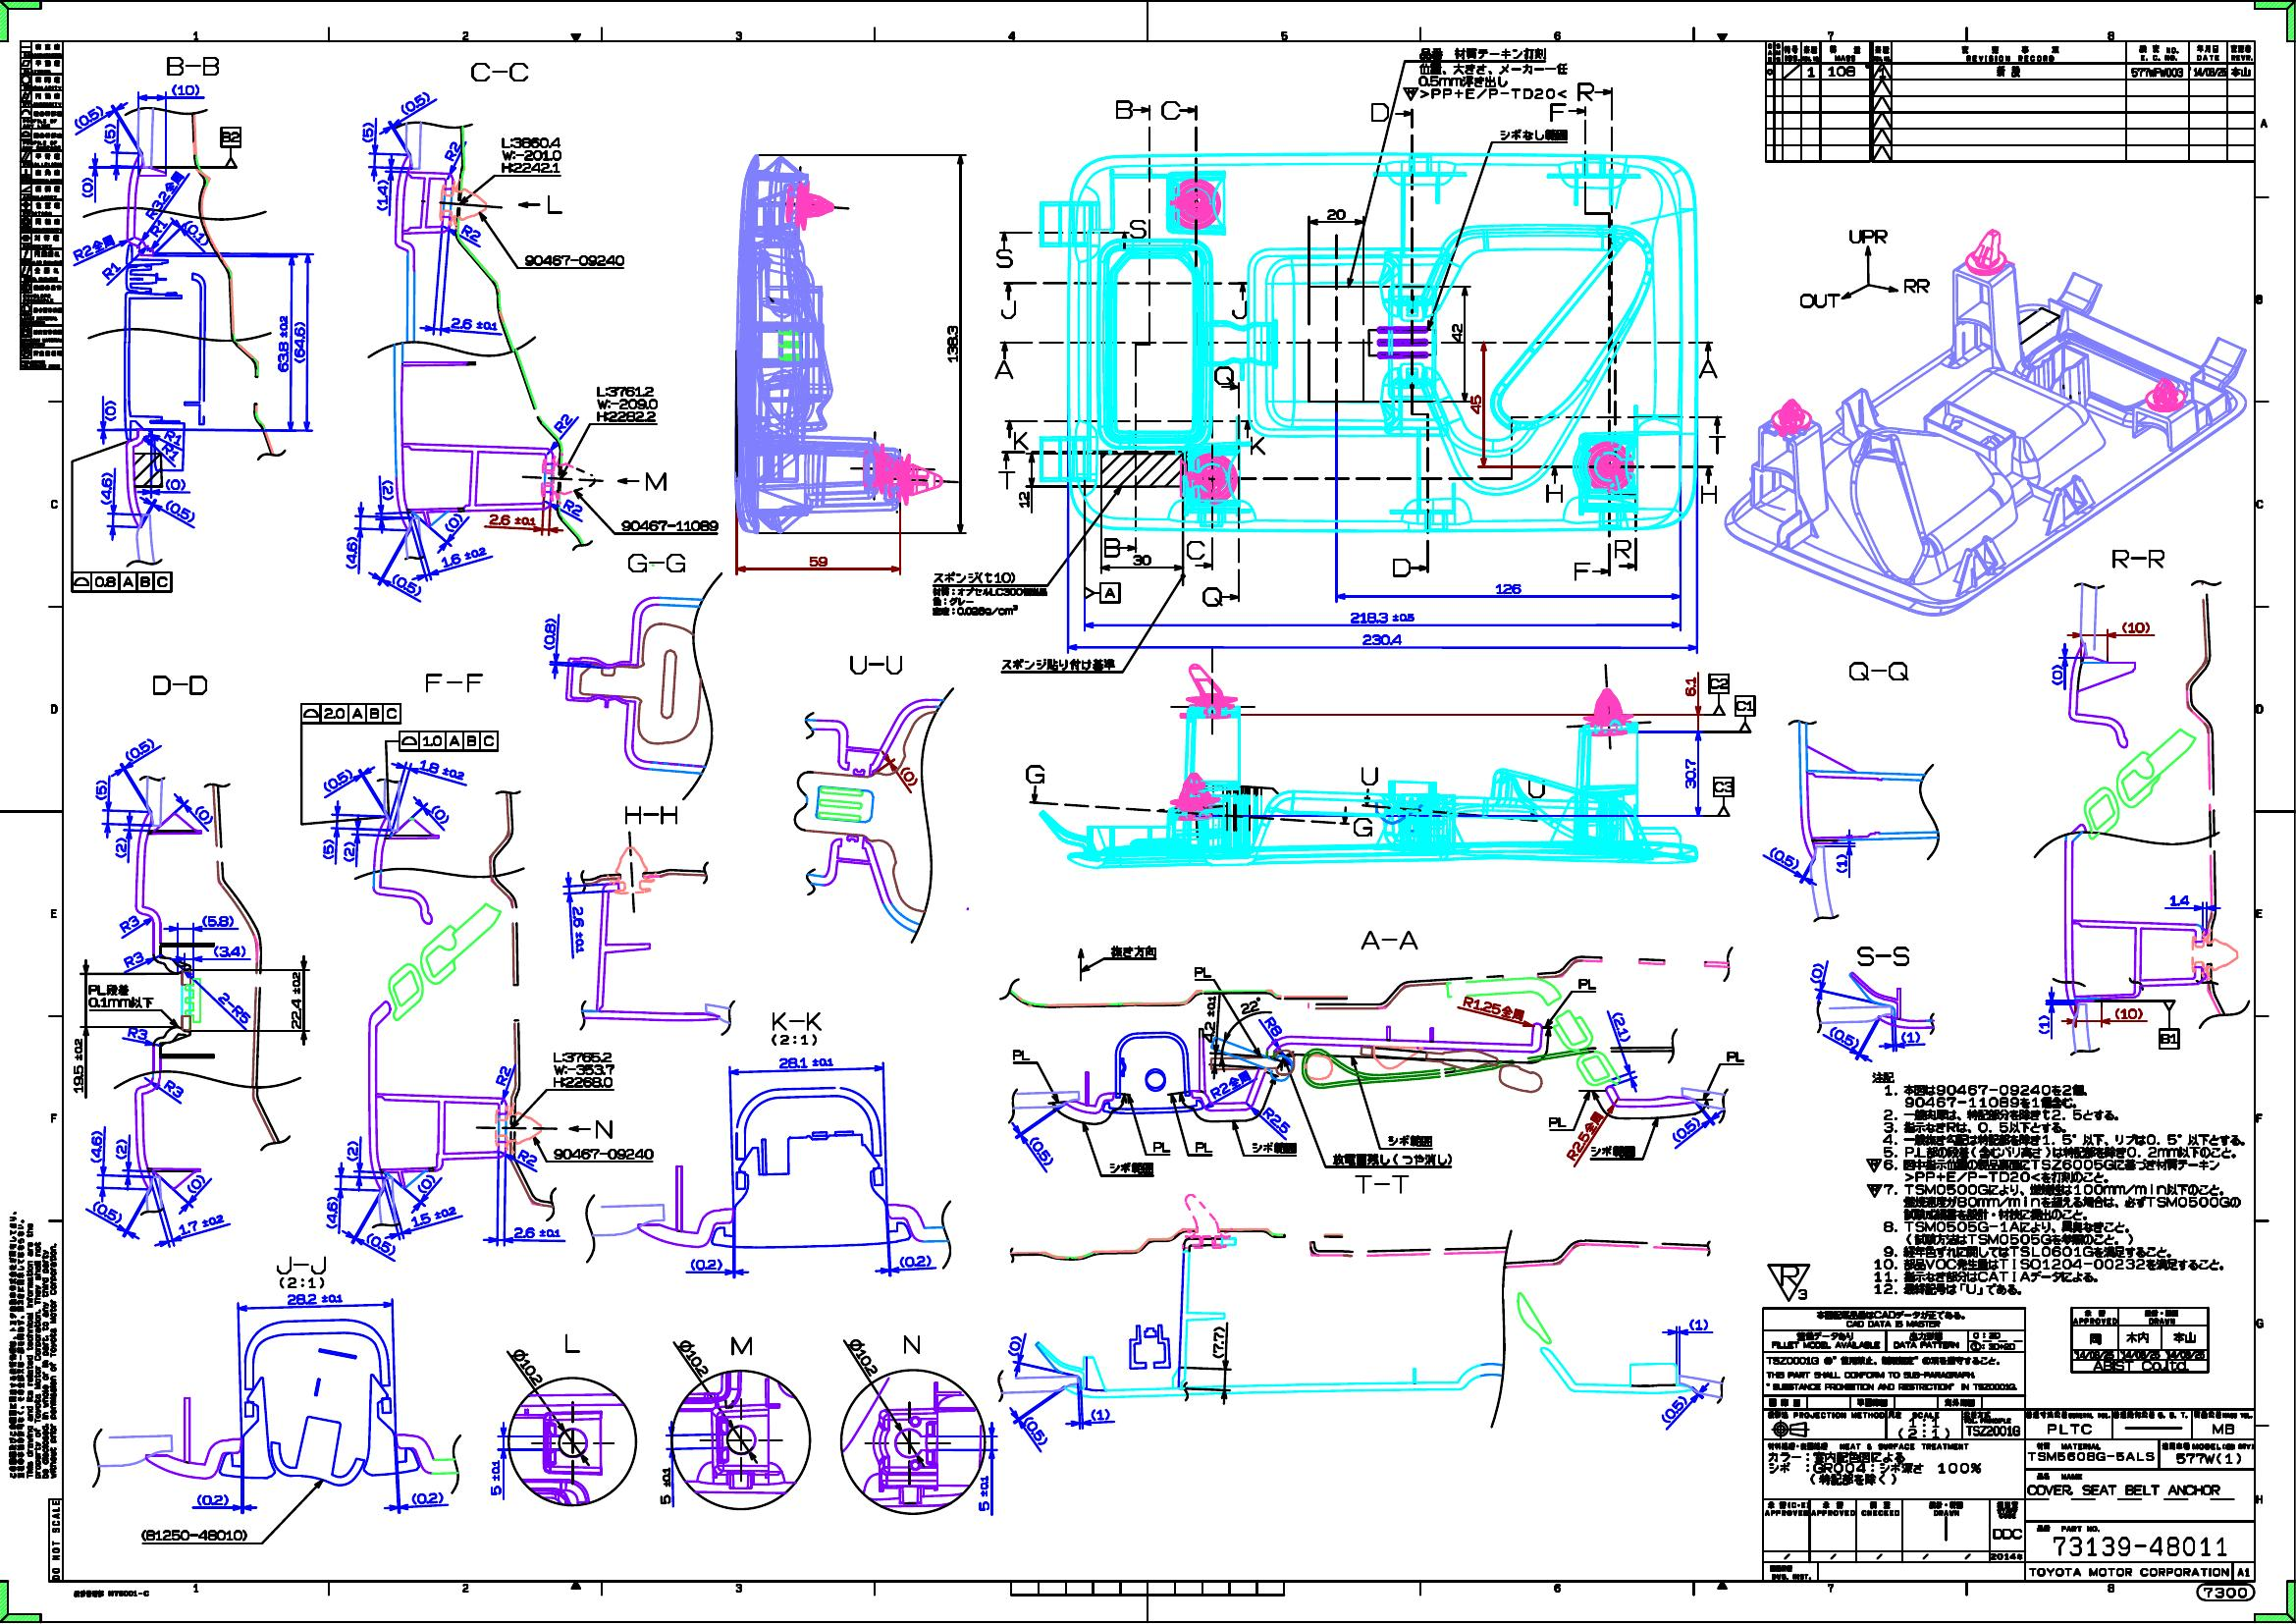anntotation_text: (1866, 1070, 2245, 1295), (5, 1209, 60, 1480), (1402, 47, 1567, 98), (931, 571, 1047, 615), (300, 703, 401, 724), (72, 571, 172, 592), (399, 731, 499, 750), (274, 1255, 327, 1290), (769, 1011, 822, 1046), (1765, 1262, 1809, 1302), (1332, 1153, 1451, 1165), (1001, 659, 1116, 671), (139, 1529, 246, 1541), (553, 1148, 653, 1160), (151, 675, 207, 696), (423, 673, 483, 692), (1848, 661, 1908, 680), (848, 654, 903, 675), (1353, 1174, 1411, 1193), (1360, 930, 1418, 949), (627, 554, 685, 573), (471, 62, 529, 81), (1857, 946, 1910, 967), (2194, 1584, 2256, 1601), (523, 255, 624, 265), (624, 805, 678, 824), (165, 56, 220, 76), (620, 520, 718, 531), (2112, 548, 2164, 568), (1498, 128, 1567, 141), (1462, 1002, 1525, 1014), (70, 1589, 149, 1598), (137, 188, 191, 200), (1799, 292, 1841, 308), (1110, 944, 1156, 958), (1848, 228, 1888, 244), (1556, 1130, 1613, 1141), (1108, 1162, 1154, 1174), (1209, 1077, 1254, 1090), (1590, 1146, 1635, 1158), (72, 241, 116, 253), (729, 1336, 754, 1357), (1251, 1142, 1296, 1153), (214, 1002, 253, 1014), (1388, 1135, 1432, 1146), (2159, 1028, 2180, 1049), (1903, 278, 1931, 294), (901, 1334, 922, 1353), (1734, 696, 1755, 715), (1713, 777, 1734, 796), (1024, 765, 1045, 784), (645, 471, 666, 490), (1202, 587, 1223, 606), (994, 359, 1014, 380), (1159, 100, 1180, 120), (1214, 366, 1235, 385), (1699, 359, 1718, 380), (1260, 1114, 1291, 1127), (1527, 779, 1546, 798), (562, 1334, 581, 1353), (1360, 766, 1379, 786), (1353, 817, 1372, 837), (221, 128, 241, 148), (1100, 582, 1119, 601), (1186, 540, 1205, 559), (1391, 557, 1411, 576), (1544, 483, 1563, 503), (1370, 102, 1390, 121), (596, 1118, 613, 1139), (546, 193, 564, 214), (1000, 299, 1017, 320), (996, 248, 1014, 269), (1116, 98, 1133, 120), (1576, 81, 1593, 102), (1708, 434, 1725, 455), (1708, 675, 1727, 692), (1103, 538, 1121, 557), (1130, 220, 1147, 239), (1614, 540, 1632, 559), (1549, 102, 1567, 121), (1231, 299, 1247, 320), (1700, 483, 1716, 504), (1014, 431, 1029, 450), (1249, 436, 1265, 455), (1574, 562, 1590, 580), (163, 1083, 184, 1095), (126, 1026, 148, 1039), (516, 1151, 538, 1164), (123, 953, 144, 965), (446, 141, 458, 162), (562, 501, 583, 513), (1193, 967, 1212, 979), (1578, 977, 1597, 990), (163, 431, 183, 443), (462, 227, 481, 239), (553, 417, 573, 429), (1268, 1016, 1279, 1037), (1152, 1141, 1170, 1153), (1195, 1141, 1212, 1153), (102, 264, 119, 276), (497, 1065, 508, 1084), (119, 917, 139, 928), (1012, 1049, 1031, 1060), (1548, 1116, 1567, 1127), (1725, 1051, 1744, 1062), (149, 221, 169, 232), (162, 446, 179, 457)
dimension_text: (552, 1051, 613, 1088), (501, 137, 562, 174), (596, 387, 657, 422), (88, 984, 155, 1009), (1349, 612, 1414, 624), (286, 1292, 344, 1304), (290, 972, 302, 1028), (687, 1336, 703, 1378), (520, 1345, 536, 1387), (450, 316, 497, 330), (573, 907, 587, 953), (278, 315, 288, 373), (72, 1037, 83, 1093), (778, 1056, 834, 1067), (1203, 995, 1216, 1042), (439, 550, 487, 562), (488, 513, 536, 526), (857, 1336, 871, 1376), (411, 1209, 457, 1222), (293, 322, 306, 364), (418, 765, 466, 775), (513, 1227, 560, 1237), (177, 1218, 223, 1229), (659, 1466, 671, 1504), (1363, 633, 1402, 645), (213, 944, 246, 958), (1767, 851, 1801, 865), (98, 471, 112, 504), (490, 1459, 502, 1496), (1827, 1032, 1860, 1044), (1035, 1134, 1047, 1167), (1657, 1403, 1690, 1415), (1212, 1325, 1224, 1359), (123, 743, 156, 756), (364, 1237, 397, 1250), (543, 617, 555, 650), (163, 504, 197, 517), (72, 111, 105, 123), (399, 97, 432, 109), (947, 325, 957, 364), (1614, 1011, 1627, 1042), (978, 1475, 989, 1512), (197, 1492, 228, 1504), (91, 1206, 123, 1218), (90, 1130, 102, 1162), (202, 914, 234, 926), (321, 773, 353, 786), (690, 1258, 722, 1271), (899, 1255, 931, 1267), (1685, 758, 1697, 789), (390, 578, 422, 591), (344, 536, 357, 568), (190, 216, 202, 248), (376, 179, 388, 211), (1679, 1114, 1692, 1144), (411, 1492, 444, 1503), (327, 1195, 337, 1229), (2115, 1007, 2143, 1019), (2122, 620, 2150, 633), (170, 83, 199, 95), (1029, 1415, 1040, 1446), (1240, 998, 1263, 1012), (2050, 664, 2064, 685), (381, 480, 395, 501), (2168, 895, 2191, 907), (1811, 961, 1823, 984), (114, 1137, 126, 1160), (104, 399, 116, 422), (1495, 584, 1521, 594), (197, 805, 211, 824), (1089, 1408, 1110, 1420), (184, 1178, 206, 1190), (114, 837, 126, 858), (321, 838, 334, 859), (343, 840, 355, 861), (346, 1141, 358, 1162), (1836, 852, 1848, 874), (1685, 675, 1697, 696), (165, 478, 186, 490), (448, 511, 460, 533), (1470, 394, 1483, 415), (1326, 207, 1347, 220), (1449, 323, 1463, 341), (2038, 1014, 2050, 1033), (1688, 1318, 1708, 1330), (1008, 1336, 1021, 1355), (95, 780, 107, 800), (420, 1174, 432, 1193), (903, 766, 915, 786), (81, 178, 93, 197), (1131, 554, 1151, 566), (436, 803, 446, 824), (104, 123, 114, 144), (362, 121, 372, 142), (1017, 490, 1029, 508), (1901, 1032, 1920, 1042)
object: (1038, 153, 1699, 533), (1723, 227, 2249, 617), (1000, 1193, 1723, 1399), (1036, 663, 1699, 868), (1007, 954, 1732, 1125), (734, 155, 959, 533), (2061, 582, 2240, 1053), (393, 121, 583, 559), (367, 782, 553, 1225), (121, 107, 272, 564), (134, 775, 279, 1211), (97, 1318, 460, 1487), (590, 1086, 949, 1248), (792, 698, 943, 933), (580, 831, 731, 1025), (1797, 719, 1939, 917), (564, 596, 704, 775), (840, 1367, 986, 1515), (671, 1369, 812, 1510), (508, 1376, 638, 1506), (1813, 972, 1934, 1030)
title_block: (1762, 1308, 2254, 1580), (1765, 40, 2256, 162), (19, 40, 63, 369), (2069, 1308, 2208, 1371)
